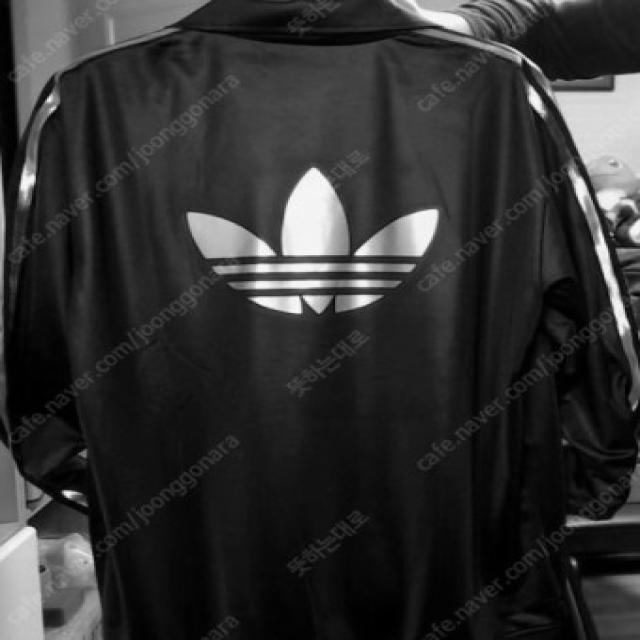Adidas: (175, 153, 454, 327)
